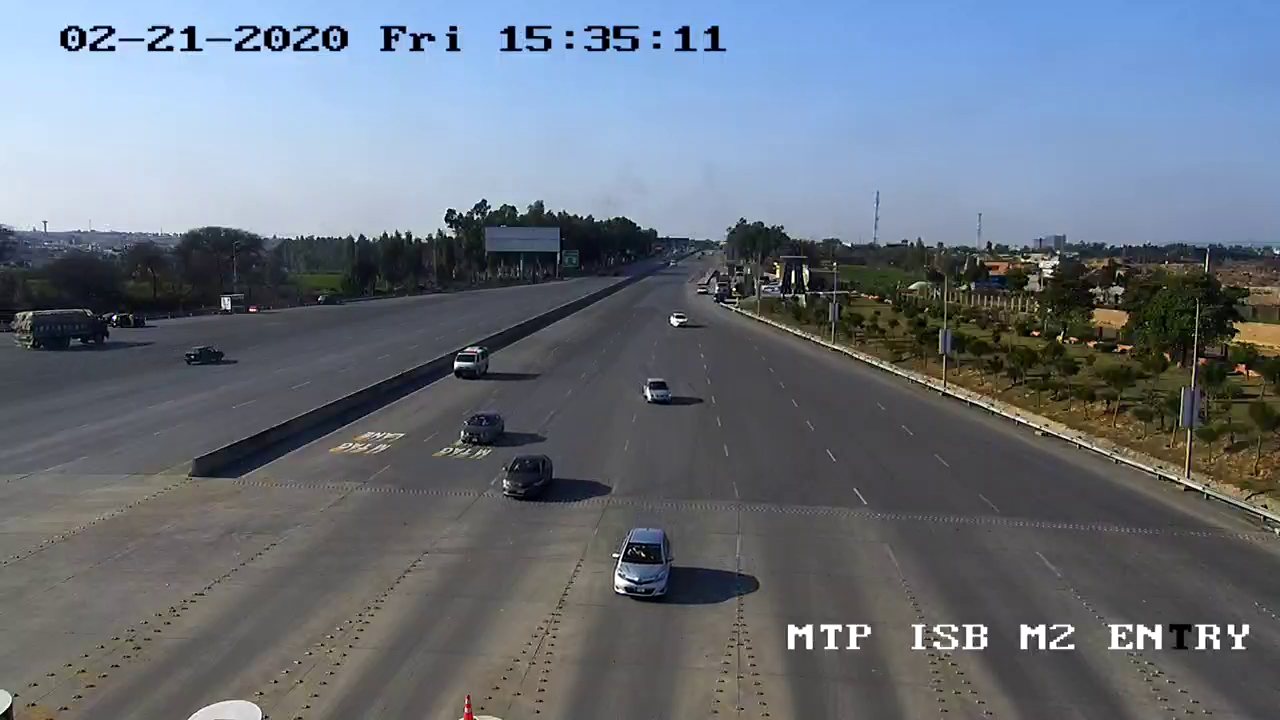f1: (600, 518, 680, 612), (497, 443, 560, 506), (452, 404, 514, 455), (637, 368, 682, 414)
